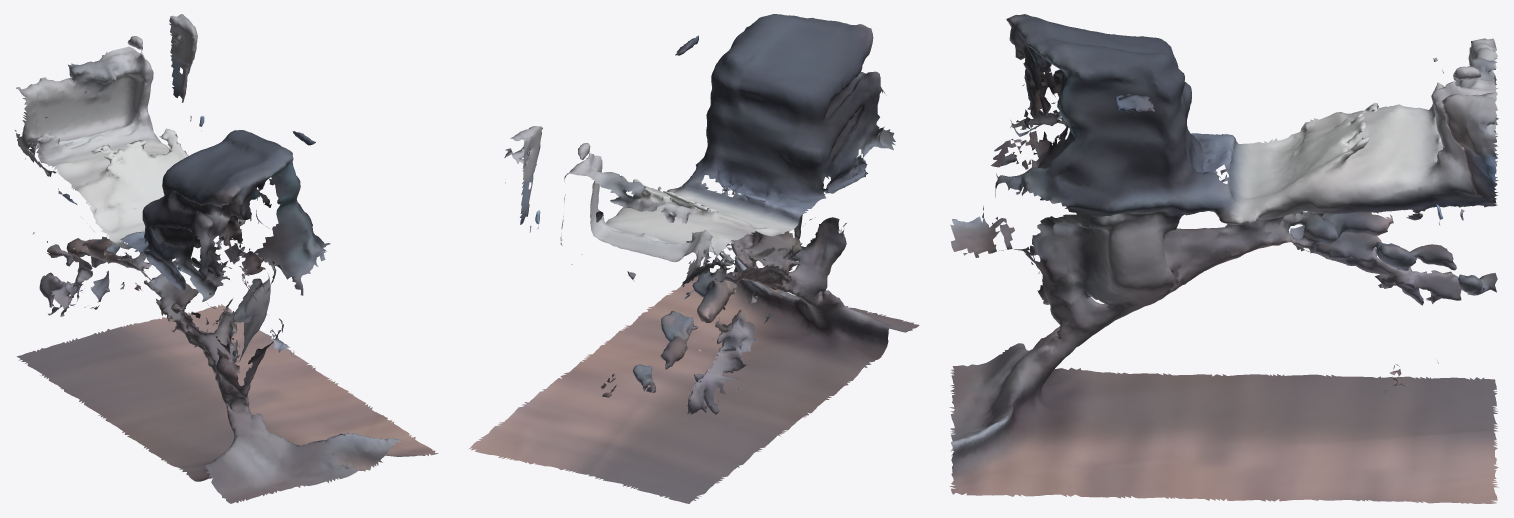
File: apartment-full-33-75222ed6b2d3.glb
3 renders of one model, left to right at view 1: azimuth 30°, elevation 25°; view 2: azimuth 150°, elevation 25°; view 3: azimuth 270°, elevation 25°, orthographic. The views are drawn at different scales.
Bounding box in the file's own units: 0.528 × 0.737 × 0.943.
